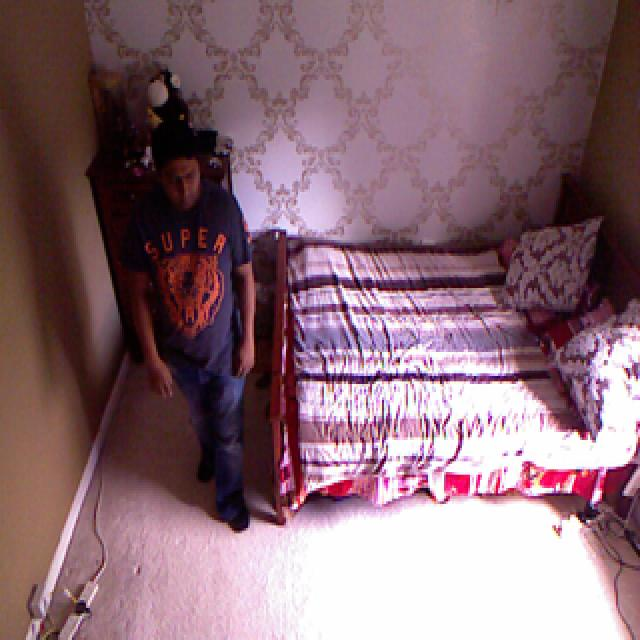standing: (116, 124, 255, 526)
